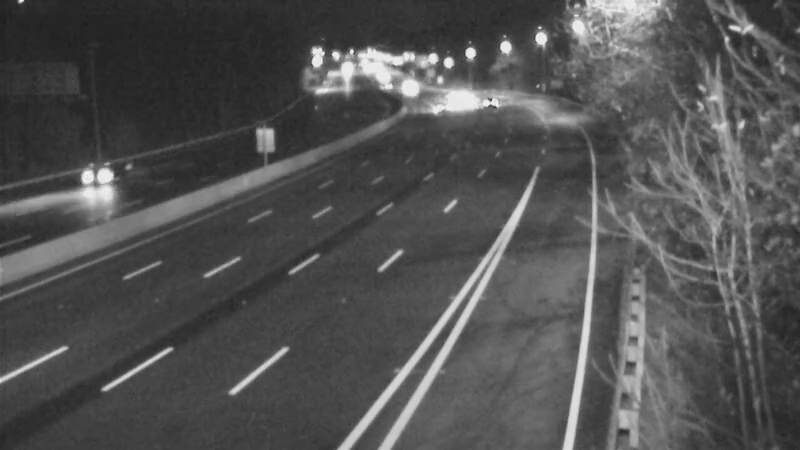vehicle: (66, 135, 146, 215), (363, 59, 413, 109), (383, 65, 433, 115), (432, 76, 482, 126), (457, 74, 507, 124), (412, 80, 462, 130)
